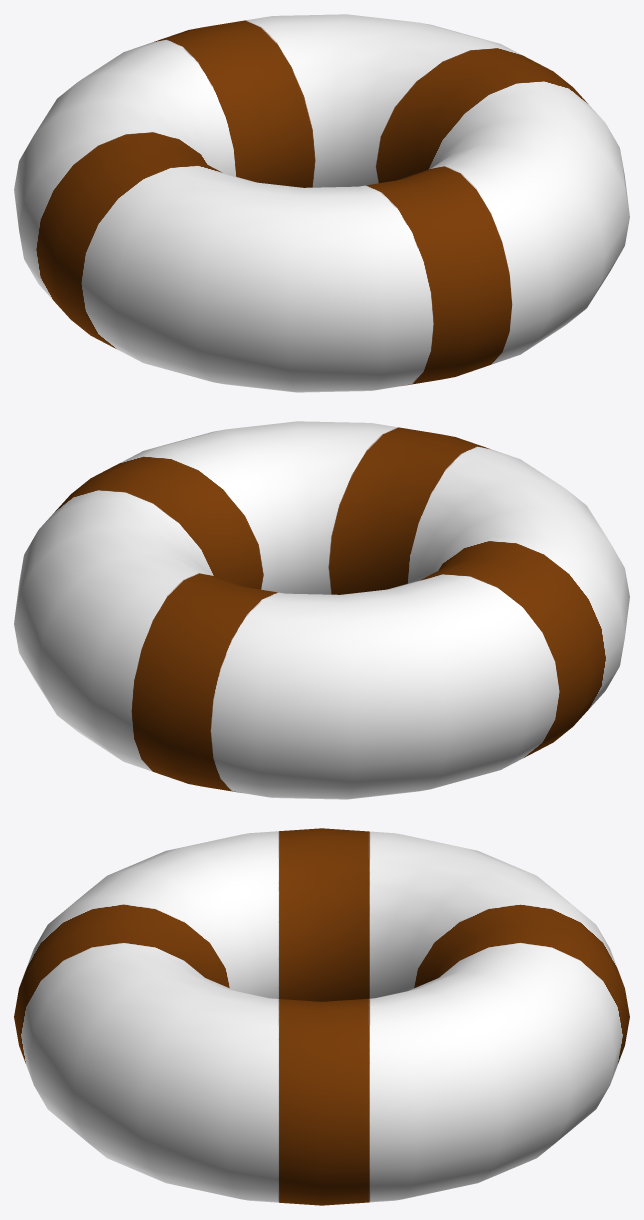
The model's file is buoy.fbx.
3 views of the same model, one above another, from view 1: azimuth 30°, elevation 25°; view 2: azimuth 150°, elevation 25°; view 3: azimuth 270°, elevation 25° (orthographic).
Visible parts, largest first — view 1: pTorus4; view 2: pTorus4; view 3: pTorus4.
Boxes of the visible parts, bbox=[...] form: pTorus4: bbox=[14, 14, 629, 392]; pTorus4: bbox=[14, 421, 629, 799]; pTorus4: bbox=[14, 828, 629, 1205].
Size of the model in its own units: 3 by 1 by 3.
